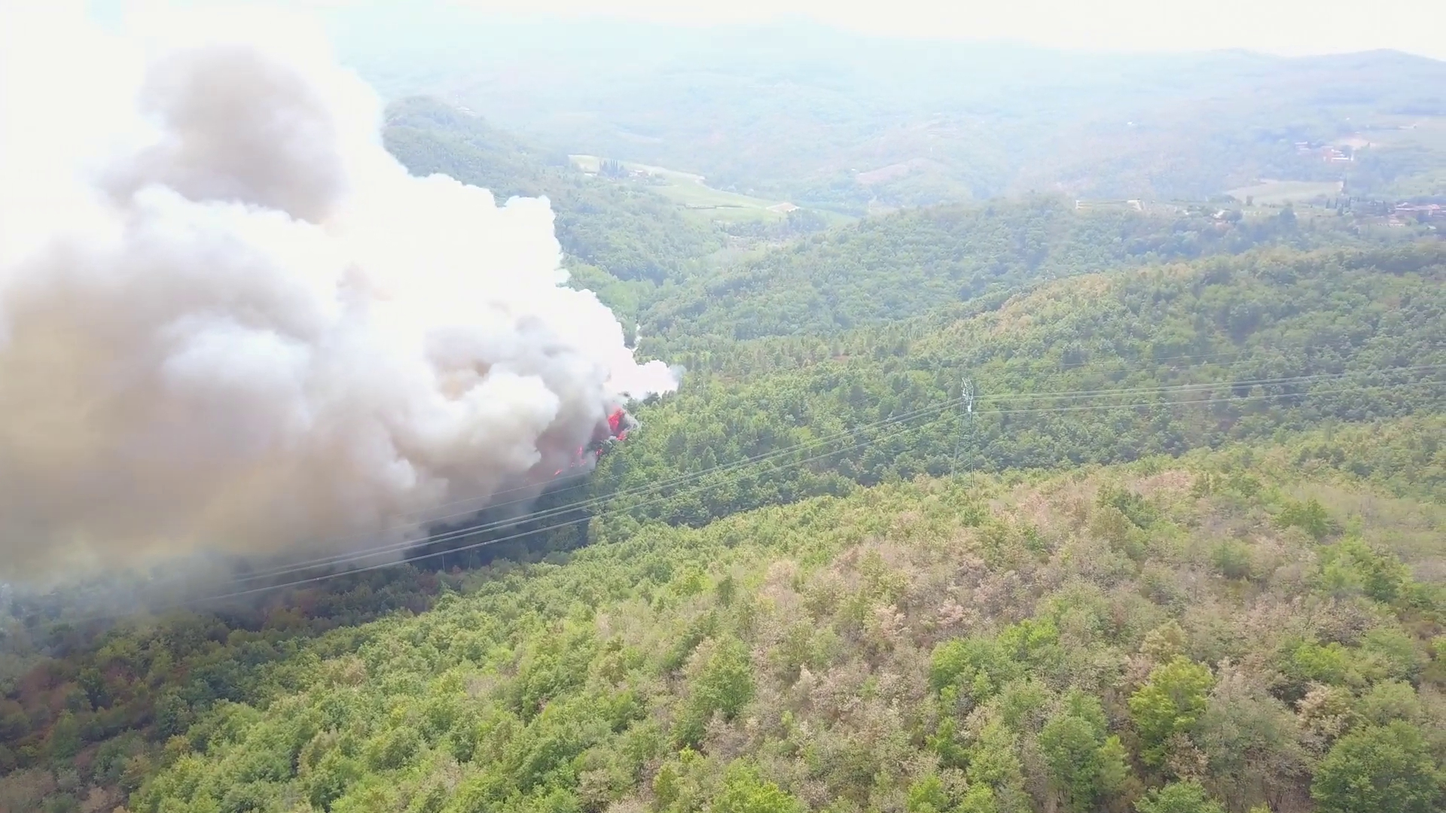forest_fire: (593, 406, 636, 455)
